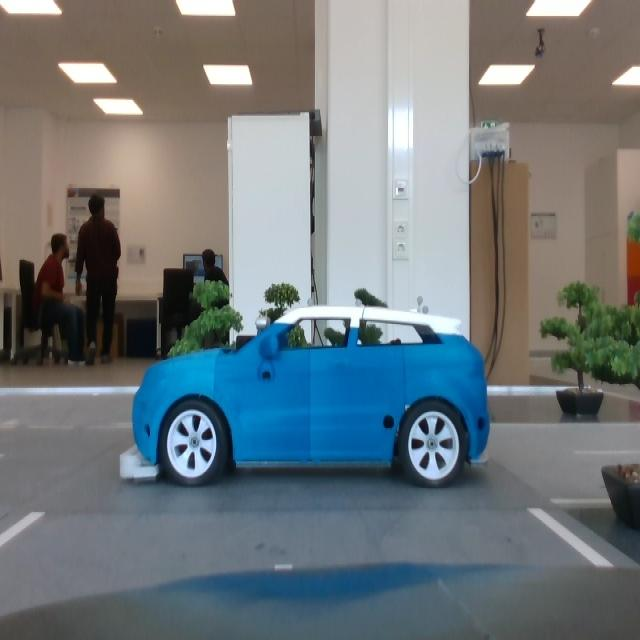car: (121, 304, 492, 492)
potted plant: (539, 281, 640, 416), (168, 280, 243, 415), (325, 290, 403, 410), (262, 286, 312, 417)
